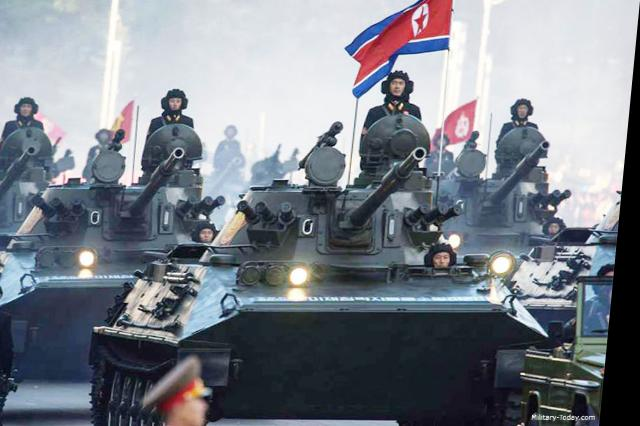tank: (109, 168, 559, 408), (0, 100, 228, 360)
